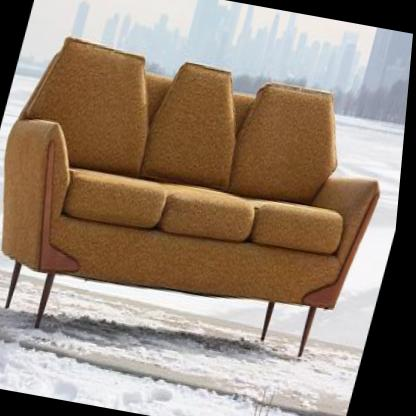Sofa: (0, 30, 414, 383)
